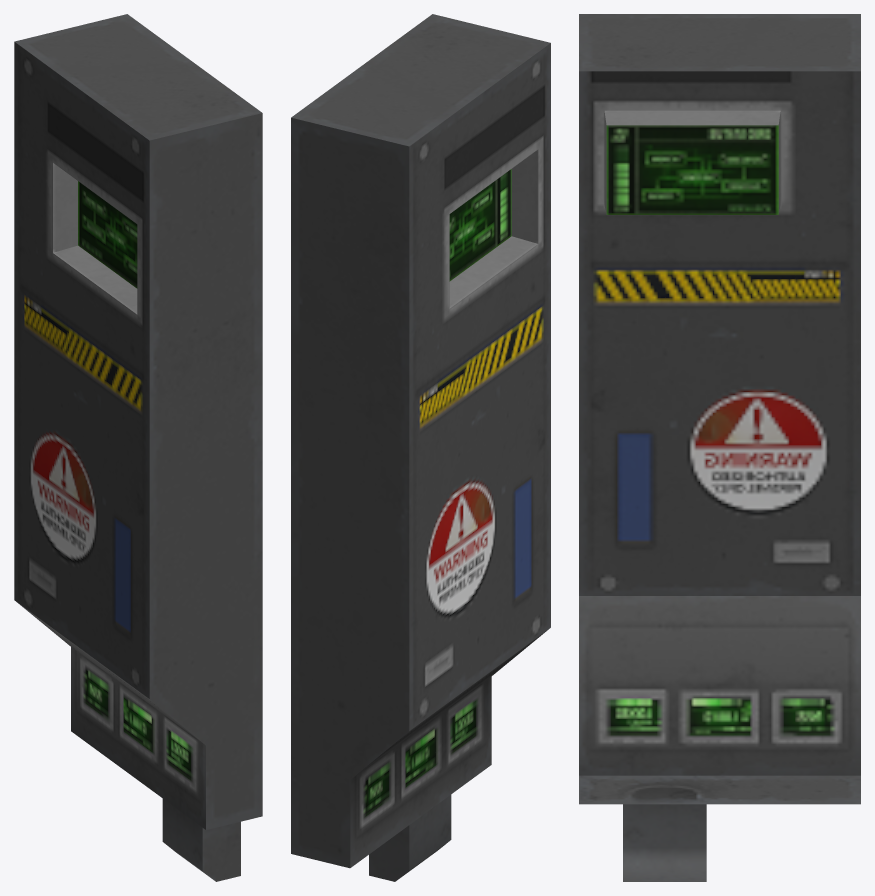
File: CP_Meter_Electric_01.fbx
The picture shows the model from 3 angles, left to right: view 1: azimuth 30°, elevation 25°; view 2: azimuth 150°, elevation 25°; view 3: azimuth 270°, elevation 25°; orthographic projection. The views are drawn at different scales.
Parts seen in each view (by area): view 1: CP_Meter_Electric_01; view 2: CP_Meter_Electric_01; view 3: CP_Meter_Electric_01.
Part boxes in pixels (x1,y1,x2,y2): CP_Meter_Electric_01: (14, 14, 262, 881); CP_Meter_Electric_01: (291, 14, 550, 881); CP_Meter_Electric_01: (579, 14, 860, 881).
Size of the model in its own units: 14.38 by 94.55 by 29.79.
